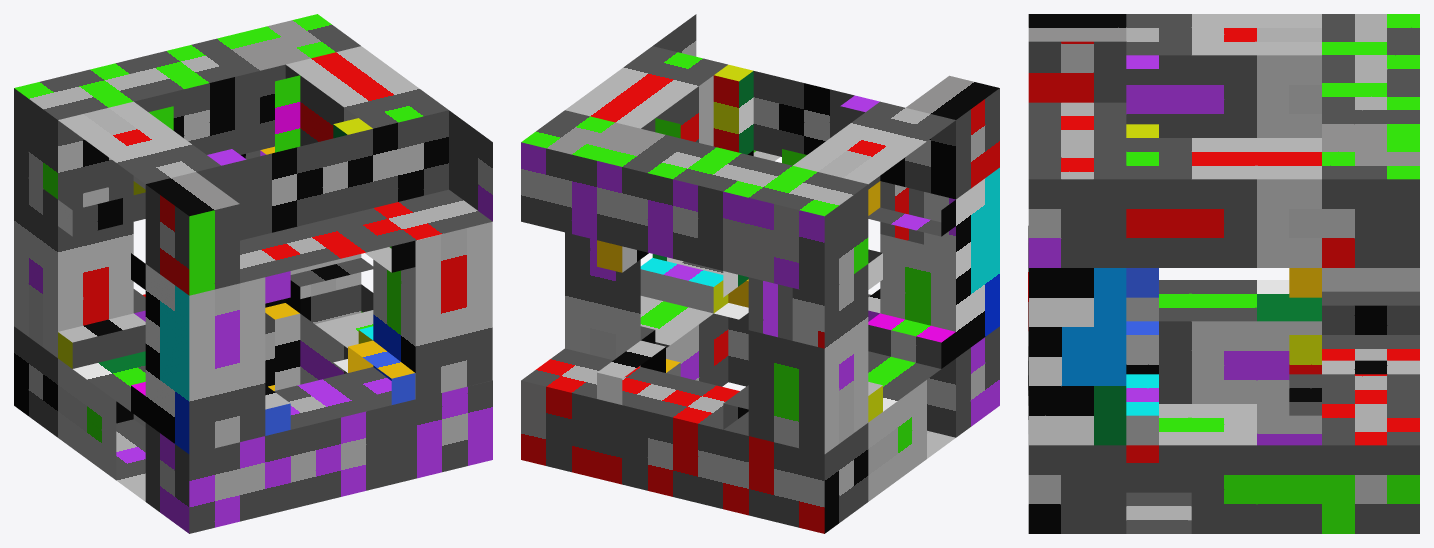
The model's file is chunkLoaderStructure.obj.
3 renders of one model, left to right at view 1: azimuth 30°, elevation 25°; view 2: azimuth 150°, elevation 25°; view 3: azimuth 270°, elevation 25°, orthographic. The views are drawn at different scales.
Visible parts, largest first — view 1: Cube.004_Cube.017; view 2: Cube.004_Cube.017; view 3: Cube.004_Cube.017.
Boxes of the visible parts, <box> form: Cube.004_Cube.017: <box>14,14,492,533</box>; Cube.004_Cube.017: <box>521,14,999,533</box>; Cube.004_Cube.017: <box>1028,14,1419,533</box>.
Bounding box in the file's own units: 3 × 3 × 3.
